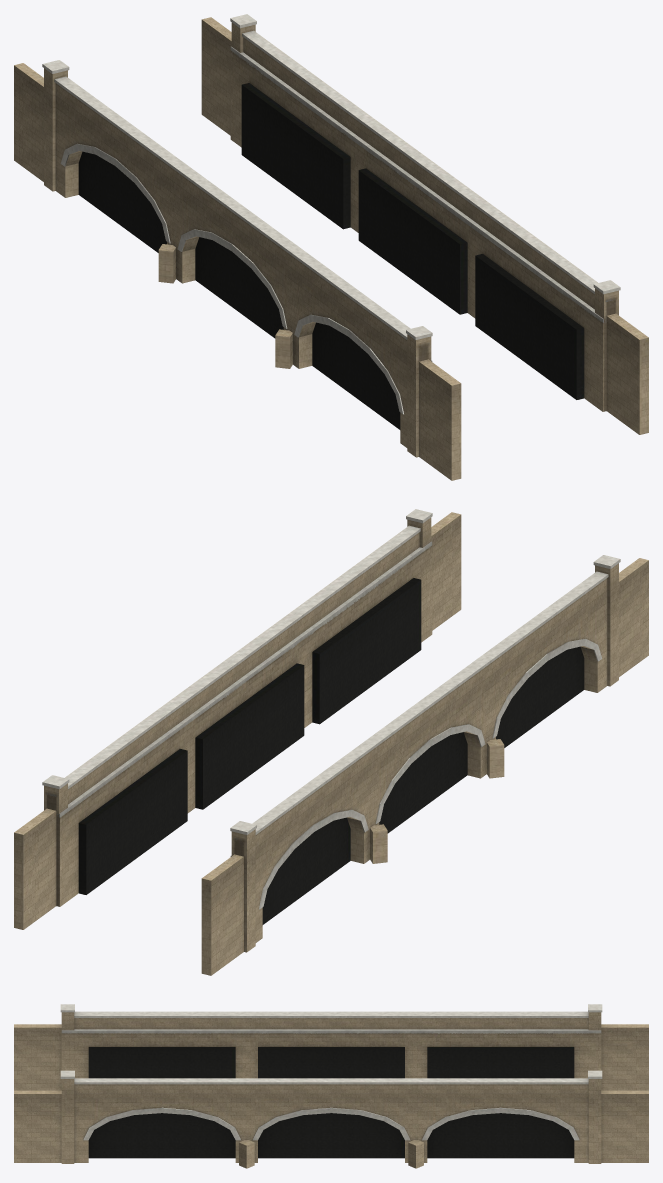
Rendered from road_bridge.glb.
3 views of the same model, one above another, from view 1: azimuth 30°, elevation 25°; view 2: azimuth 150°, elevation 25°; view 3: azimuth 270°, elevation 25° (orthographic). The views are drawn at different scales.
Parts seen in each view (by area): view 1: road_bridge; view 2: road_bridge; view 3: road_bridge.
Boxes of the visible parts, <box> form: road_bridge: <box>14,14,648,480</box>; road_bridge: <box>14,509,648,975</box>; road_bridge: <box>14,1004,648,1168</box>.
Bounding box in the file's own units: 12.09 × 6.1 × 40.
1 material, 1 textured.
